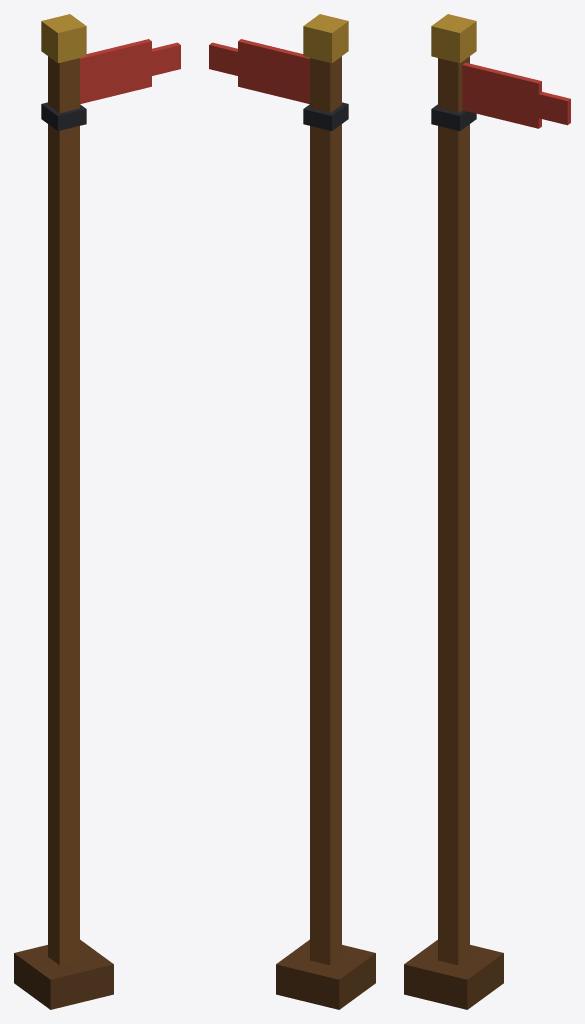
File: cp-pennant-mast.glb
The picture shows the model from 3 angles, left to right: view 1: azimuth 30°, elevation 25°; view 2: azimuth 150°, elevation 25°; view 3: azimuth 330°, elevation 25°; orthographic projection.
Visible parts, largest first — view 1: box-prop; view 2: box-prop; view 3: box-prop.
Boxes of the visible parts, x1,y1,x2,y2 form: box-prop: (14, 14, 180, 1009); box-prop: (209, 14, 375, 1009); box-prop: (404, 14, 570, 1009).
Bounding box in the file's own units: 1.02 × 6.4 × 0.44.
